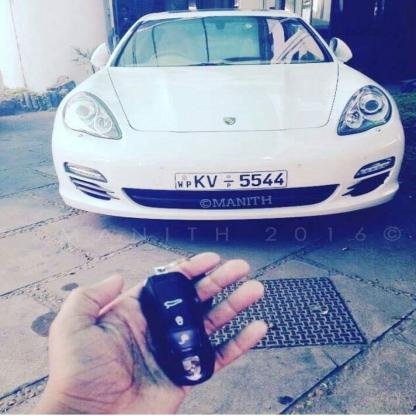car front: (50, 5, 416, 229)
number plate: (171, 171, 294, 190)
